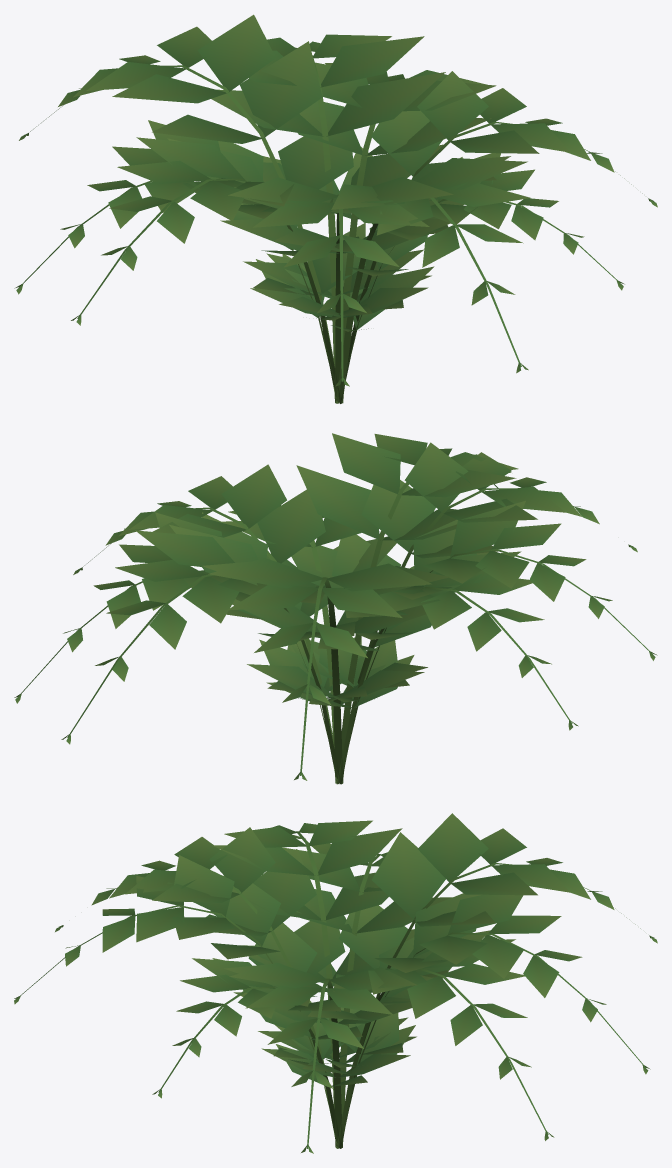
Rendered from fern.glb.
The picture shows the model from 3 angles, top to bottom: view 1: azimuth 30°, elevation 25°; view 2: azimuth 150°, elevation 25°; view 3: azimuth 270°, elevation 25°; orthographic projection. The views are drawn at different scales.
Visible parts, largest first — view 1: fern; view 2: fern; view 3: fern.
Boxes of the visible parts, x1=… form: fern: x1=14, y1=14, x2=657, y2=403; fern: x1=14, y1=433, x2=657, y2=784; fern: x1=14, y1=813, x2=657, y2=1153.
Bounding box in the file's own units: 2.29 × 1.09 × 2.41.
